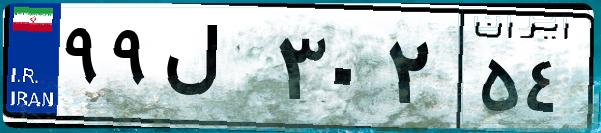0: (330, 28, 385, 110)
2: (385, 28, 445, 110)
3: (270, 28, 330, 110)
4: (525, 38, 570, 115)
5: (475, 38, 525, 113)
9: (57, 26, 110, 100), (110, 28, 158, 98)
ل: (158, 20, 270, 120)
